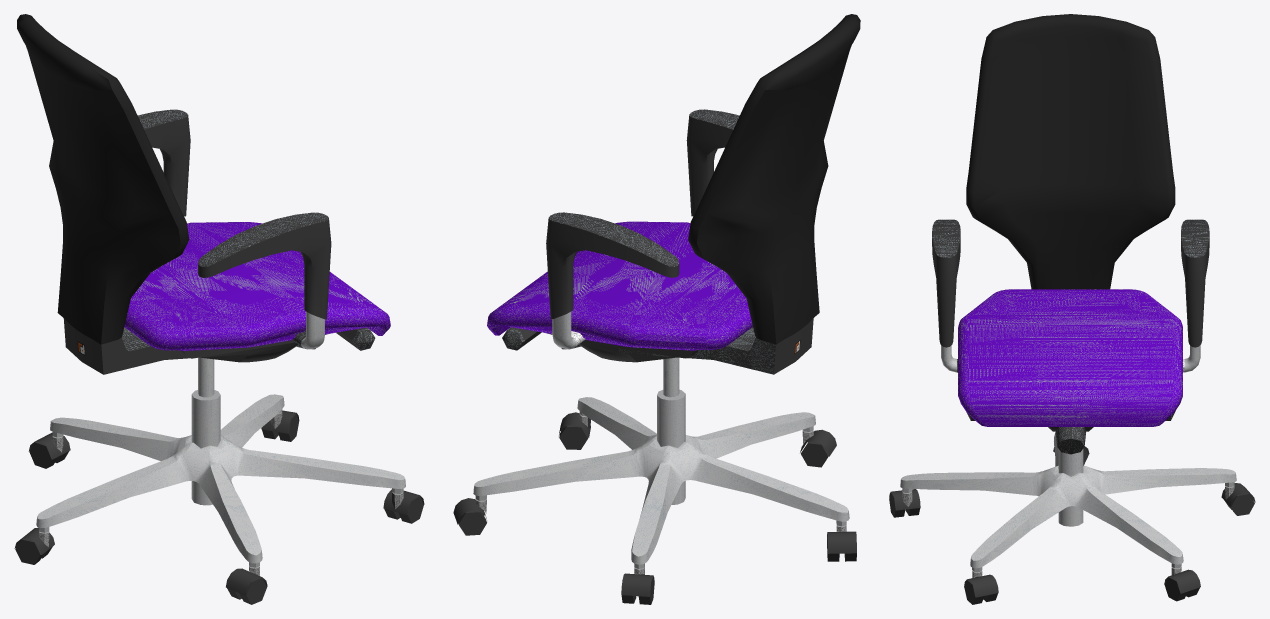
File: chair3.dae
The picture shows the model from 3 angles, left to right: view 1: azimuth 30°, elevation 25°; view 2: azimuth 150°, elevation 25°; view 3: azimuth 270°, elevation 25°; orthographic projection. The views are drawn at different scales.
Parts seen in each view (by area): view 1: SketchUp (×13); view 2: SketchUp (×18); view 3: SketchUp (×10).
Part boxes in pixels (x1,y1,x2,y2): SketchUp (×13): (17,14,405,595); SketchUp (×18): (458,14,860,596); SketchUp (×10): (900,14,1236,597).
Size of the model in its own units: 28.79 by 29.28 by 40.08.
